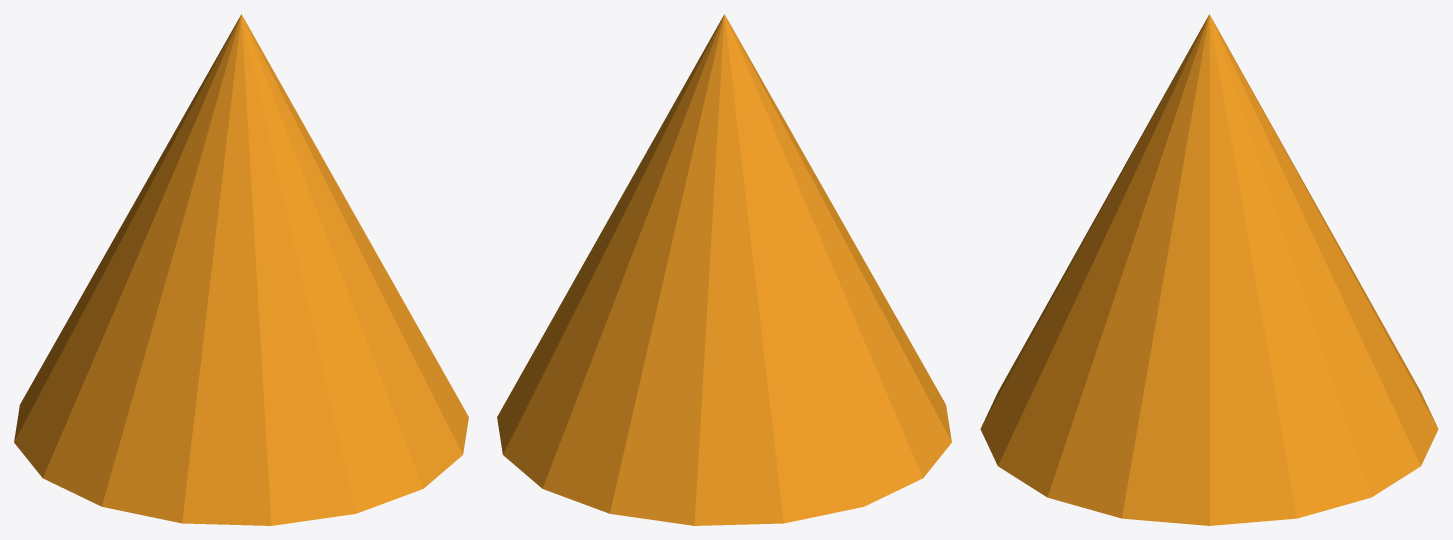
3 views of the same model, side by side, from view 1: azimuth 30°, elevation 25°; view 2: azimuth 150°, elevation 25°; view 3: azimuth 270°, elevation 25° (orthographic).
Parts seen in each view (by area): view 1: SM_Primitive_Cone_03; view 2: SM_Primitive_Cone_03; view 3: SM_Primitive_Cone_03.
Boxes of the visible parts, x1,y1,x2,y2 form: SM_Primitive_Cone_03: [14, 14, 468, 525]; SM_Primitive_Cone_03: [497, 14, 951, 525]; SM_Primitive_Cone_03: [980, 14, 1438, 525].
Size of the model in its own units: 100 by 100 by 100.
